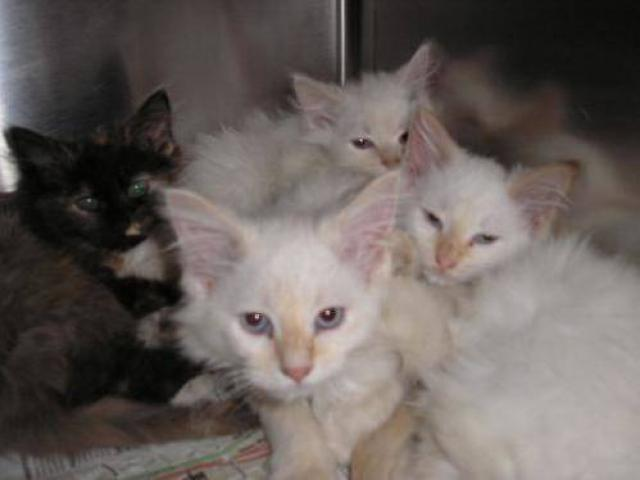cat: (389, 117, 639, 480), (170, 129, 404, 480), (282, 36, 442, 178)
